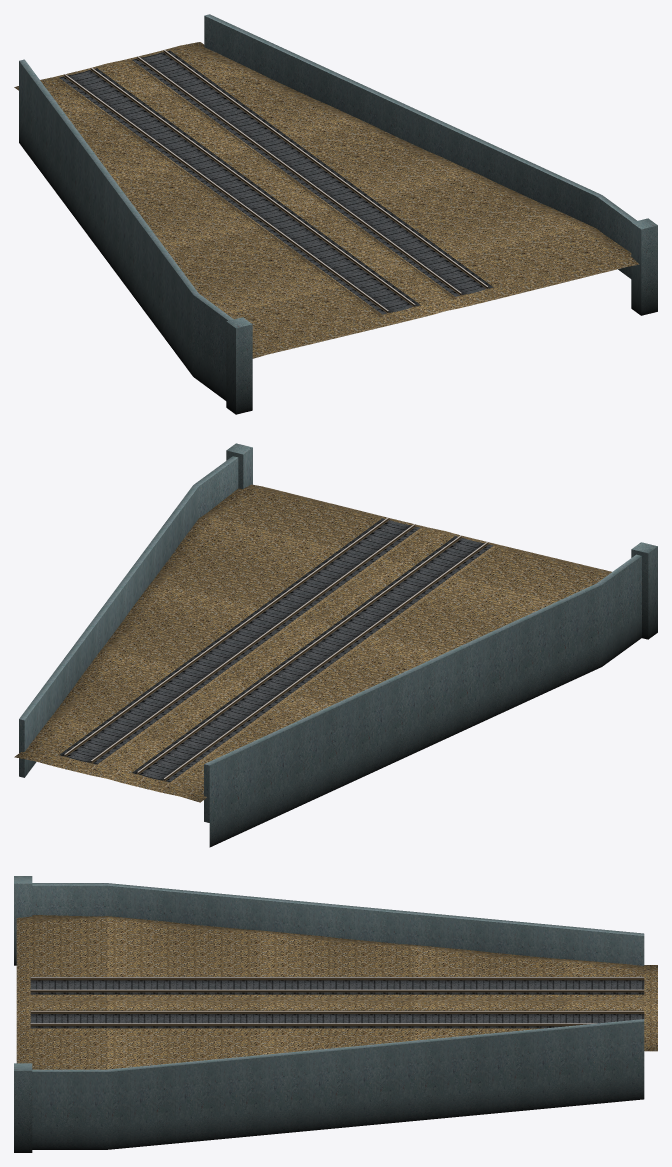
File: 2_TO_4RAIL.glb
The picture shows the model from 3 angles, top to bottom: view 1: azimuth 30°, elevation 25°; view 2: azimuth 150°, elevation 25°; view 3: azimuth 270°, elevation 25°; orthographic projection. The views are drawn at different scales.
Visible parts, largest first — view 1: obj6, obj3; view 2: obj6, obj3; view 3: obj6, obj3.
Part boxes in pixels (box(x1,y1,x2,y2)): obj6: box(14, 14, 639, 400); obj3: box(226, 218, 657, 414); obj6: box(14, 456, 641, 847); obj3: box(226, 443, 657, 639); obj6: box(16, 883, 657, 1149); obj3: box(14, 876, 32, 1152).
Bounding box in the file's own units: 75.24 × 14.71 × 105.
Materials: 5 (4 with a texture image).
